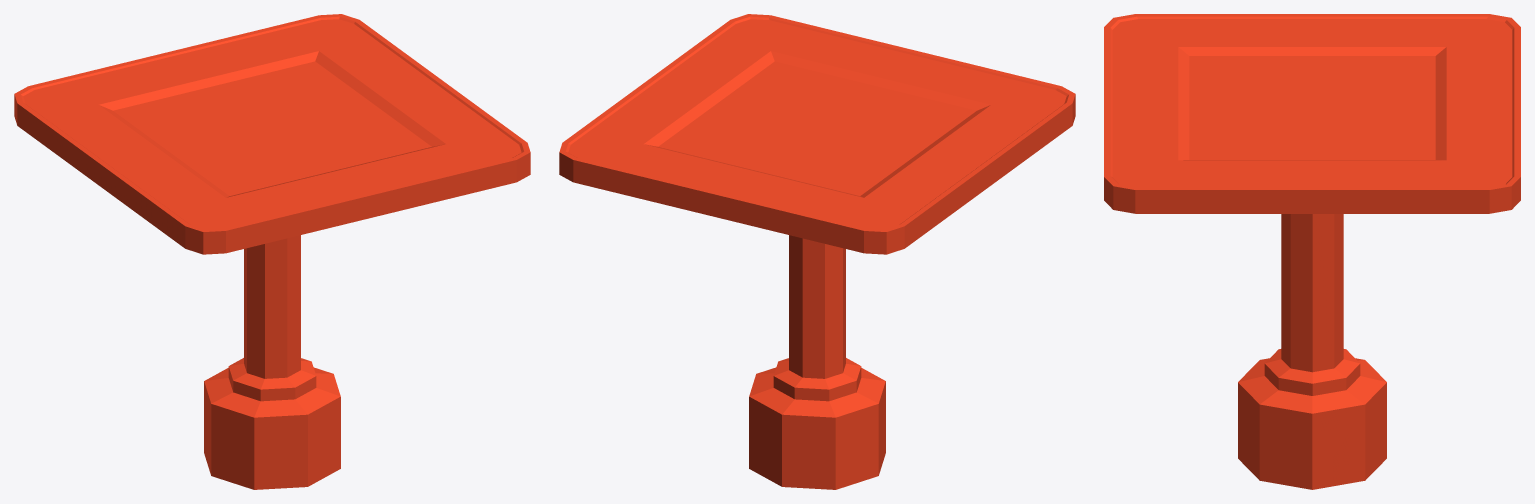
The model's file is SM_Table_Chess_City.fbx.
The picture shows the model from 3 angles, left to right: view 1: azimuth 30°, elevation 25°; view 2: azimuth 150°, elevation 25°; view 3: azimuth 270°, elevation 25°; orthographic projection. The views are drawn at different scales.
Visible parts, largest first — view 1: SM_Table_Chess_City; view 2: SM_Table_Chess_City; view 3: SM_Table_Chess_City.
Part boxes in pixels (x1,y1,x2,y2): SM_Table_Chess_City: (14,14,530,489); SM_Table_Chess_City: (559,14,1075,489); SM_Table_Chess_City: (1104,14,1520,489).
Bounding box in the file's own units: 1.13 × 1.07 × 1.13.
